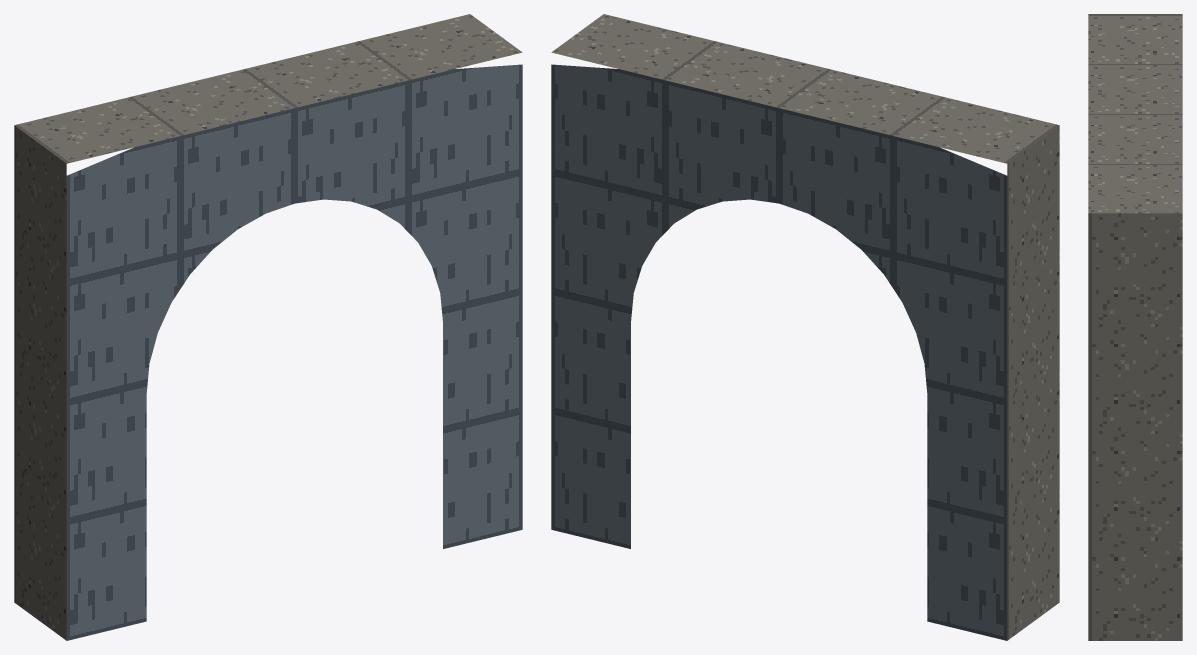
Rendered from airlock_arch.glb.
The picture shows the model from 3 angles, left to right: view 1: azimuth 30°, elevation 25°; view 2: azimuth 150°, elevation 25°; view 3: azimuth 270°, elevation 25°; orthographic projection. The views are drawn at different scales.
Visible parts, largest first — view 1: airlock_arch mesh; view 2: airlock_arch mesh; view 3: airlock_arch mesh.
Boxes of the visible parts, bbox=[...] form: airlock_arch mesh: bbox=[14, 14, 522, 640]; airlock_arch mesh: bbox=[551, 14, 1059, 640]; airlock_arch mesh: bbox=[1088, 14, 1182, 640].
Bounding box in the file's own units: 4 × 4 × 0.8.
Materials: 2 (2 with a texture image).
